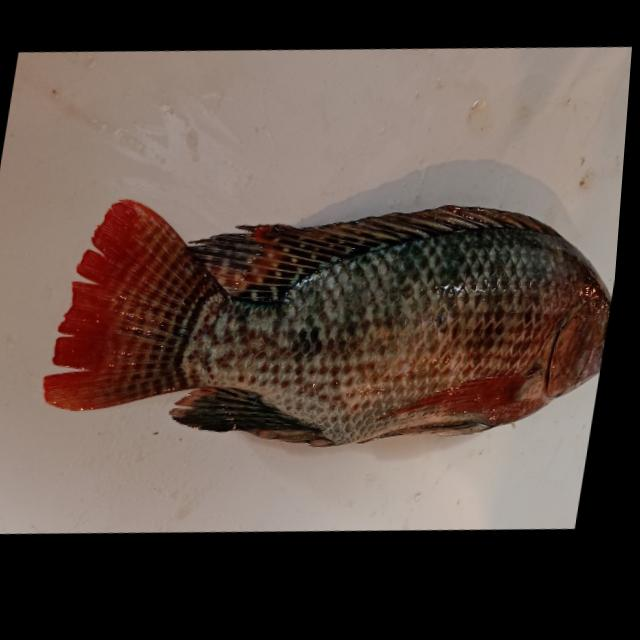Tilapia: (36, 147, 625, 499)
